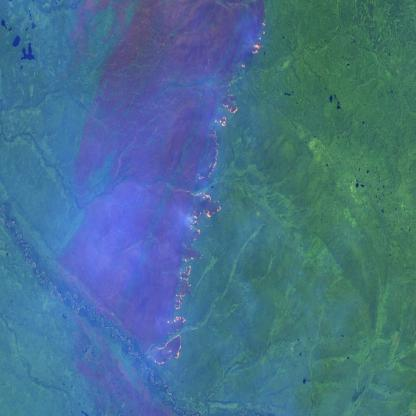fire: (150, 0, 268, 370)
